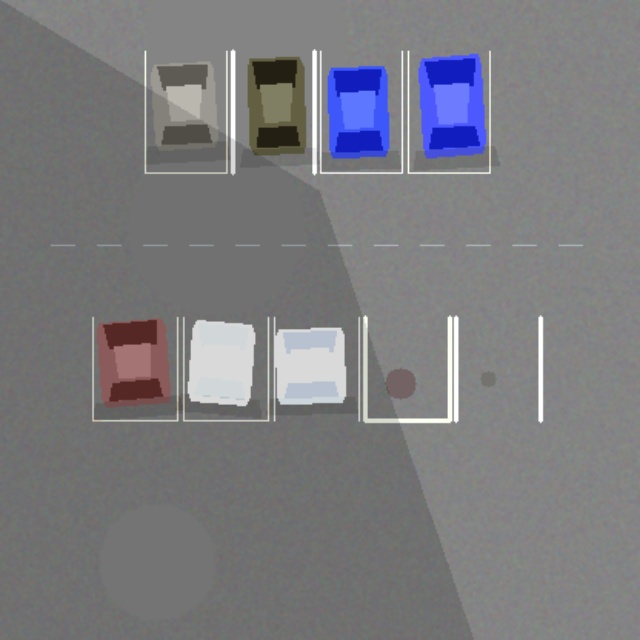space-empty: (455, 317, 540, 420), (365, 317, 449, 420)
space-occupied: (232, 51, 314, 172), (320, 51, 402, 172), (145, 51, 226, 172), (408, 51, 489, 172), (92, 317, 177, 420), (183, 317, 268, 420), (274, 317, 358, 420)
